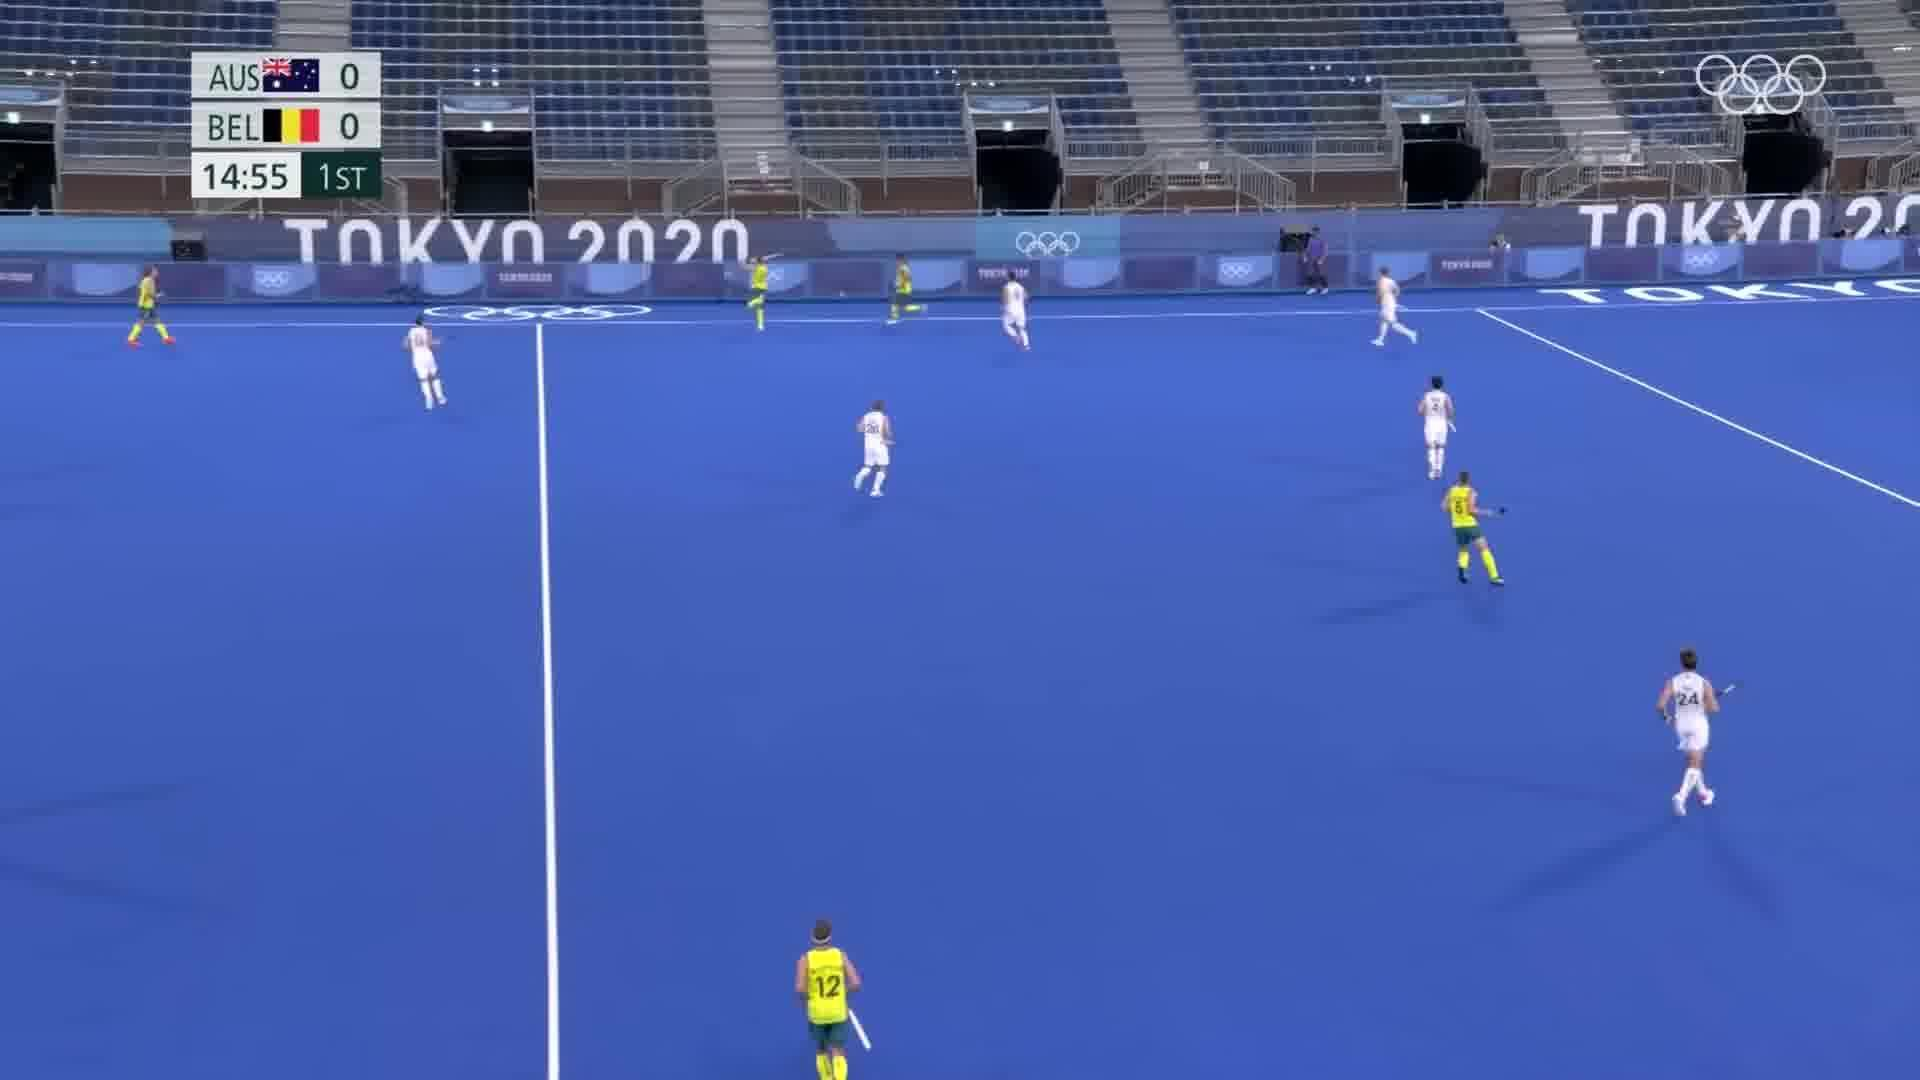ball: (831, 282, 853, 305)
